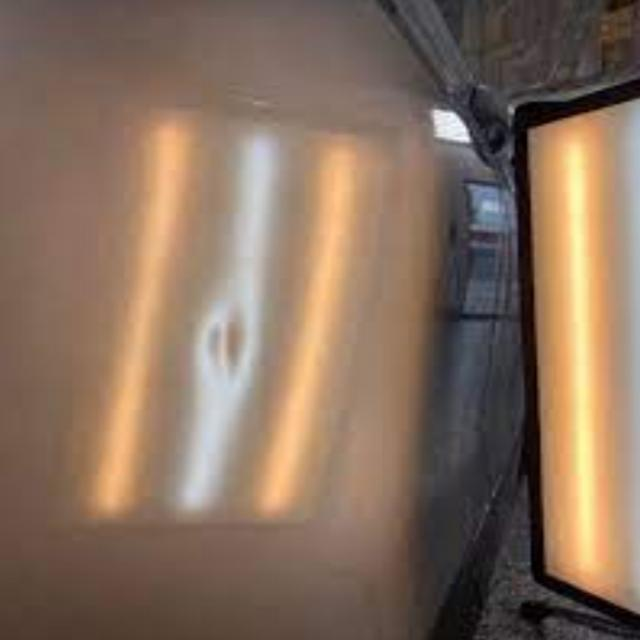dents: (186, 278, 302, 410)
